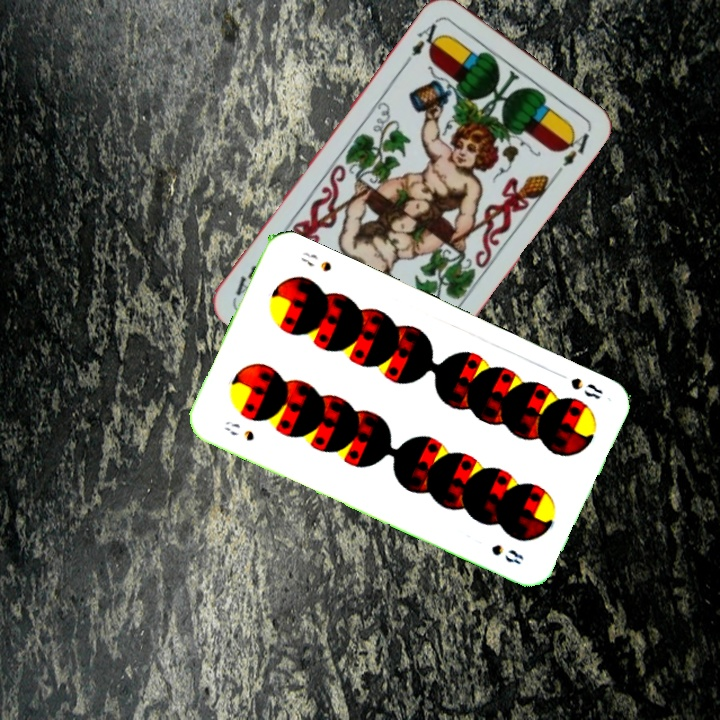EA: (401, 15, 446, 67)
S8: (566, 373, 605, 403), (221, 416, 257, 444)
